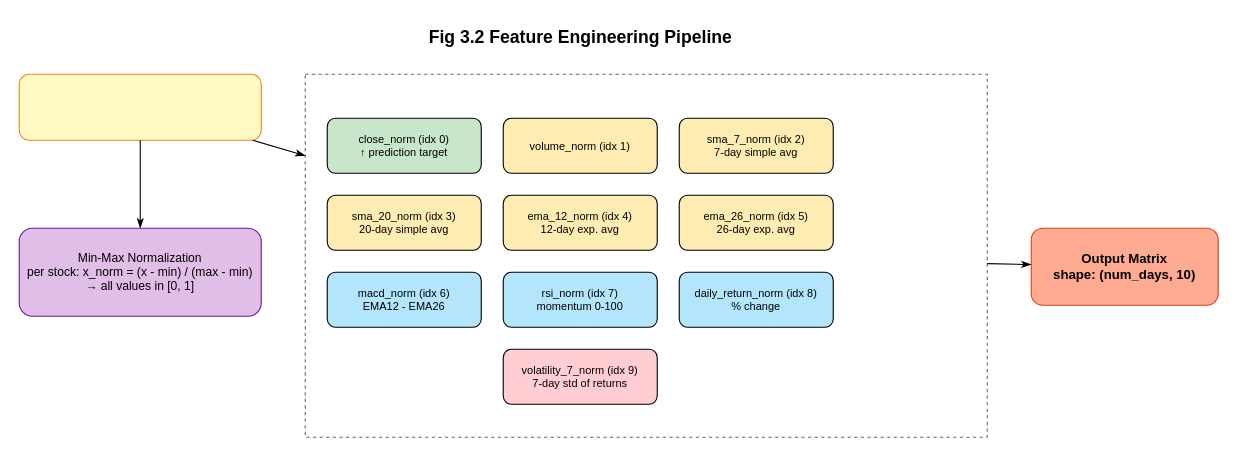
The diagram is 1238 pixels wide and 457 high, and some of its shapes have lost their labels. The box of each missing label's shape, as (x1, y1, x2, y2) in pixels:
Feature Computation (per stock): (304, 73, 987, 437)
Raw Daily Data (Date, Open, High, Low, Close, Volume): (18, 73, 261, 140)
